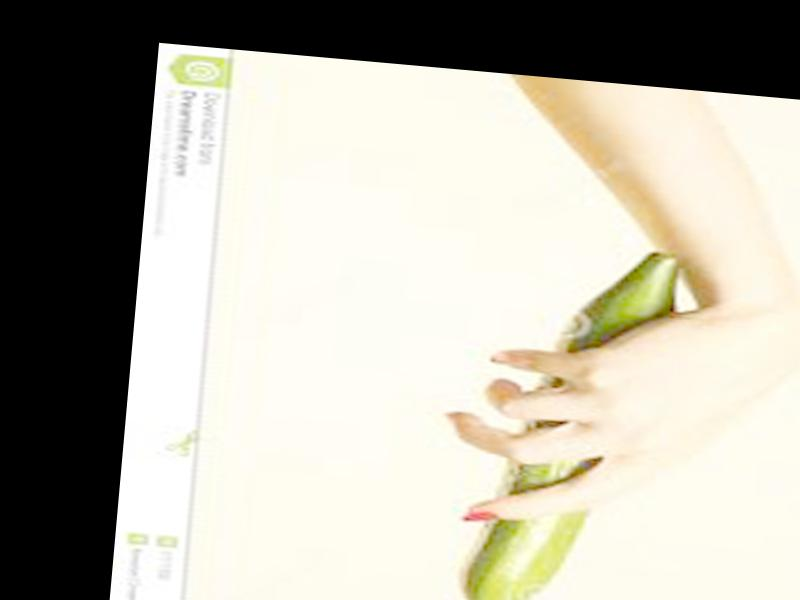Cucumber: (455, 232, 679, 600)
